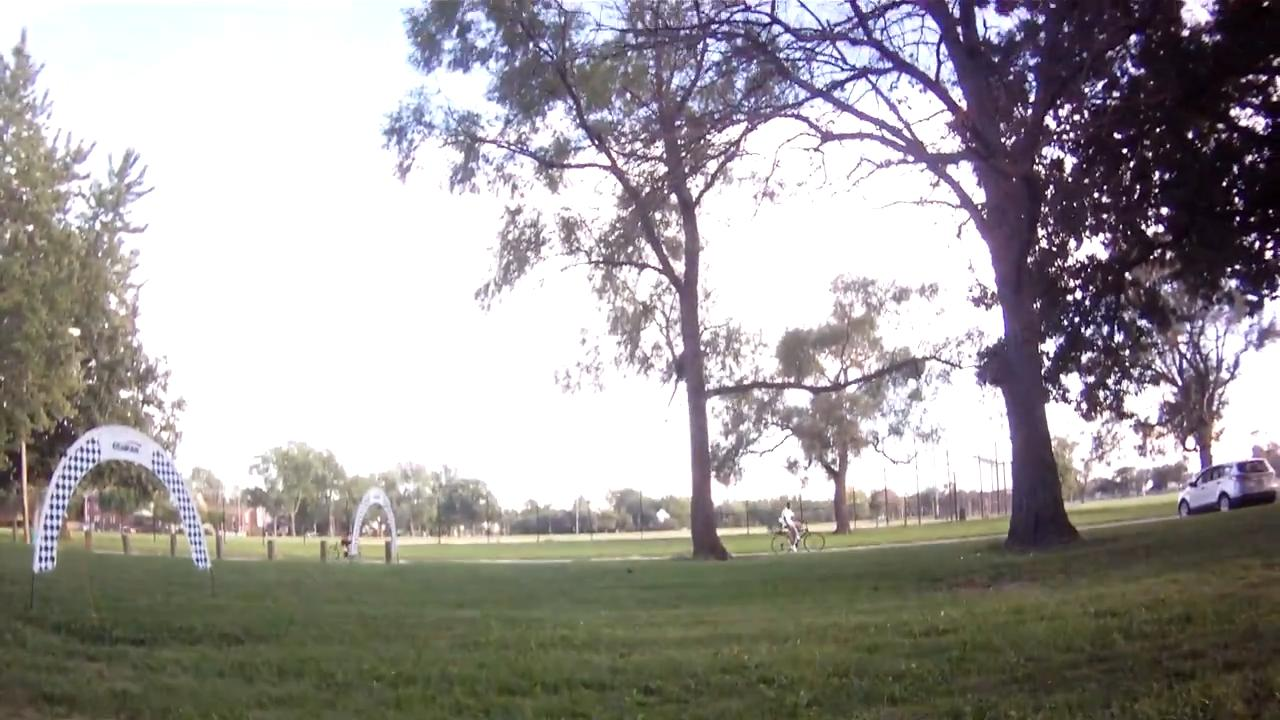gate: (30, 421, 210, 572)
